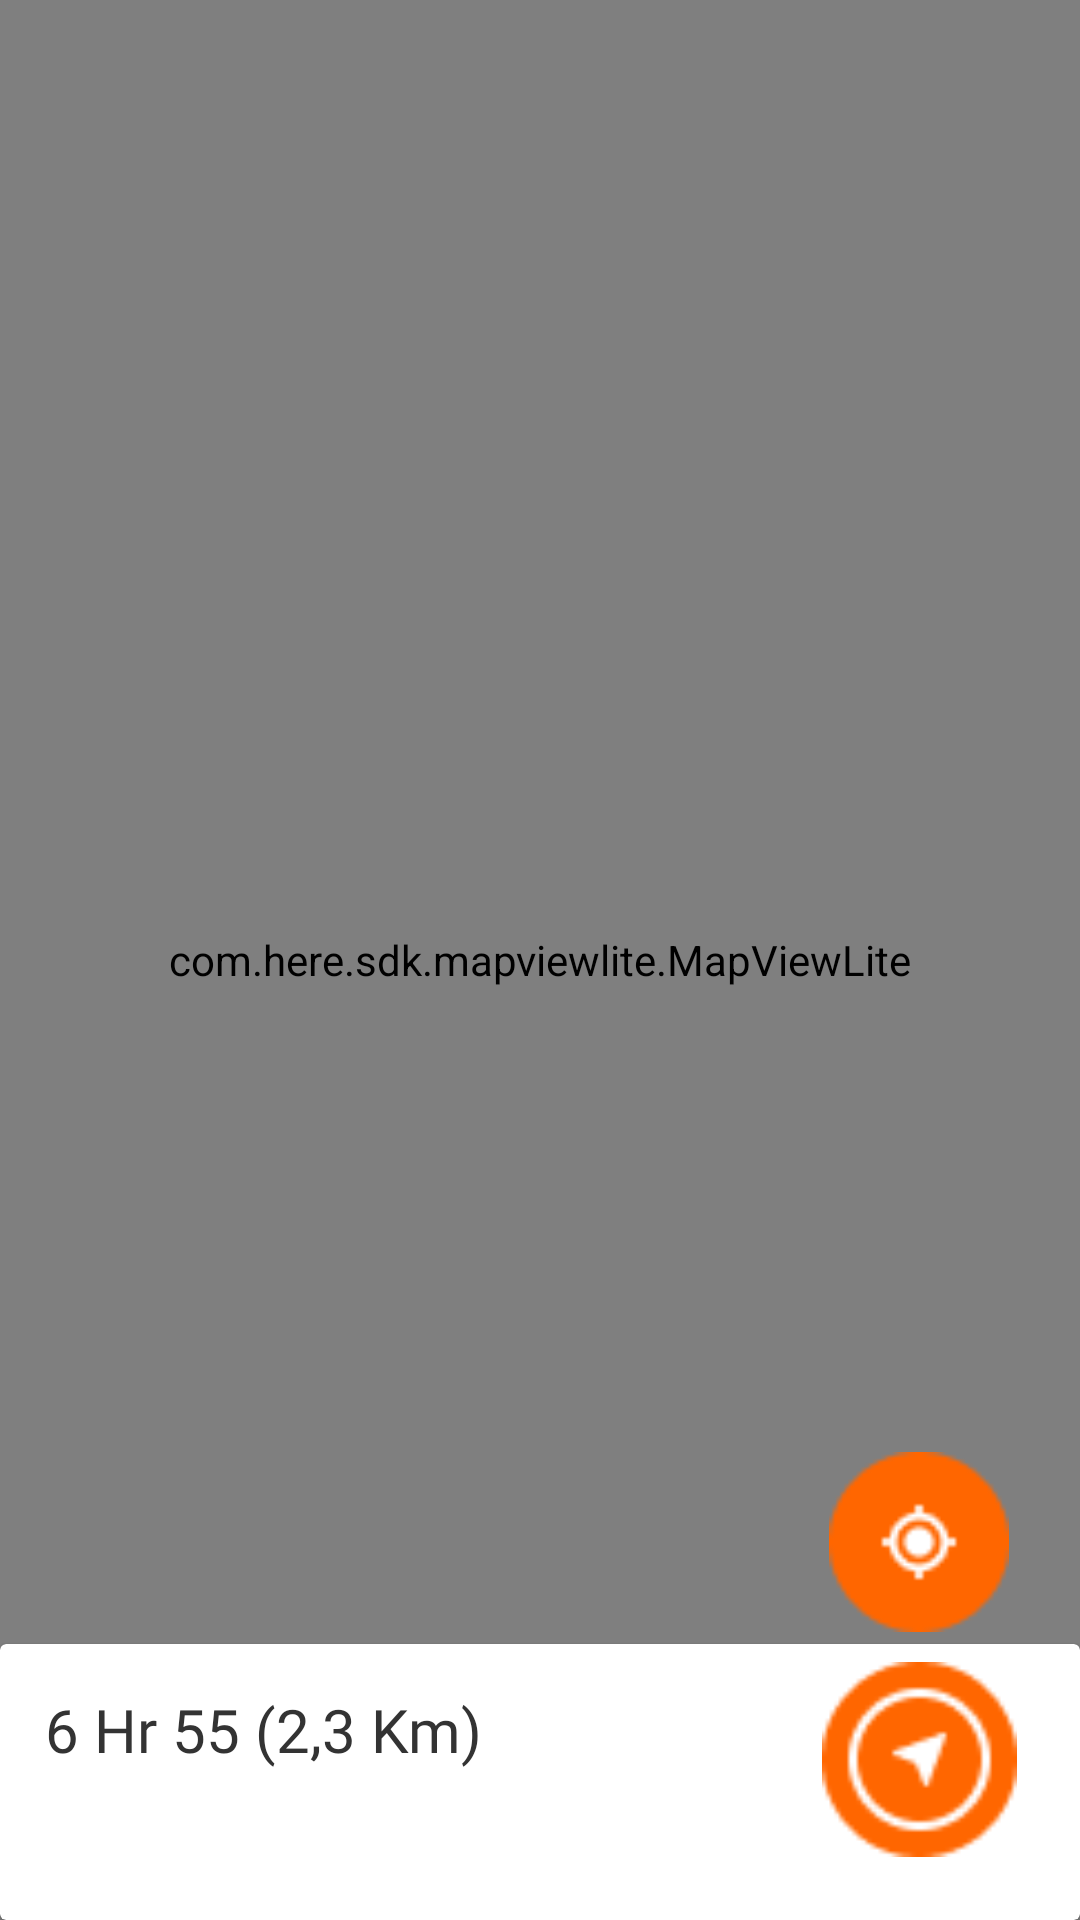

Icon click points for this 1080w x 1920h phone screenshot, format (x,y):
location: (919,1542)
